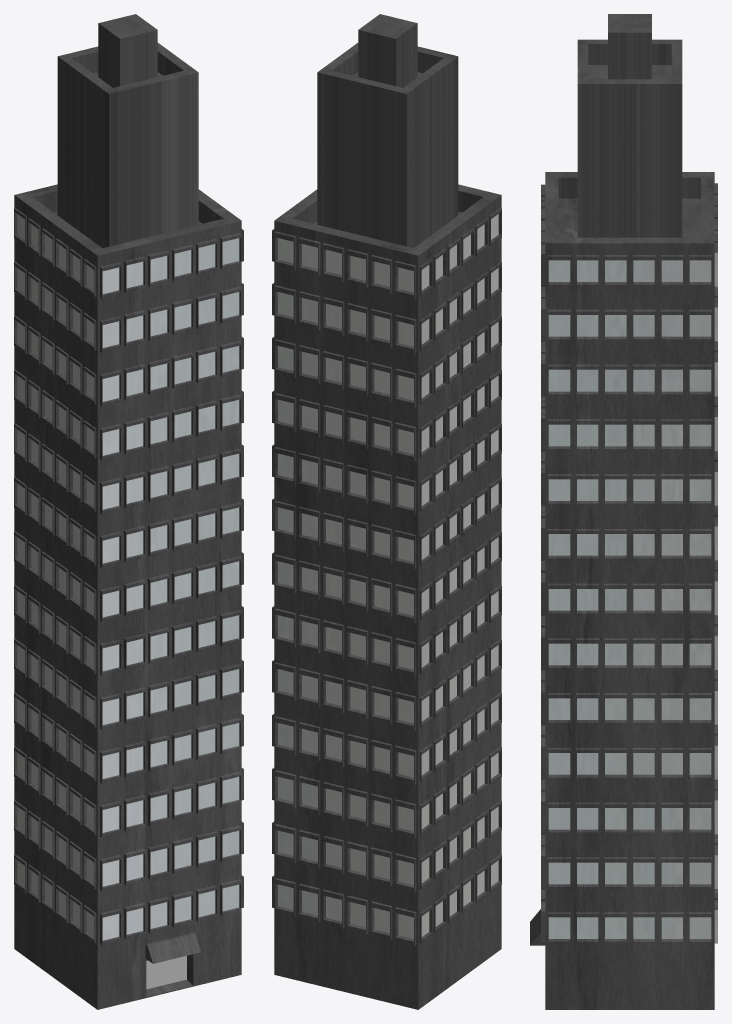
The model's file is scraper.fbx.
3 views of the same model, side by side, from view 1: azimuth 30°, elevation 25°; view 2: azimuth 150°, elevation 25°; view 3: azimuth 270°, elevation 25° (orthographic).
Visible parts, largest first — view 1: Cube, Cube.001, Cube.002; view 2: Cube, Cube.001; view 3: Cube, Cube.001.
Part boxes in pixels (x1=…): Cube: x1=14, y1=14, x2=243, y2=1009; Cube.001: x1=17, y1=214, x2=239, y2=940; Cube.002: x1=146, y1=955, x2=186, y2=989; Cube: x1=272, y1=14, x2=501, y2=1009; Cube.001: x1=278, y1=214, x2=498, y2=938; Cube: x1=530, y1=14, x2=717, y2=1009; Cube.001: x1=548, y1=253, x2=717, y2=943.
Bounding box in the file's own units: 1036 × 6202 × 1110.
